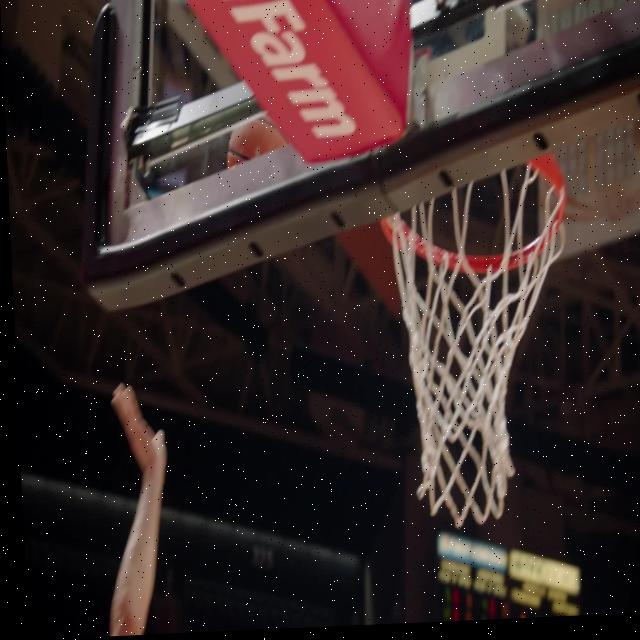basketball: (224, 111, 288, 170)
hoop: (378, 131, 581, 531)
